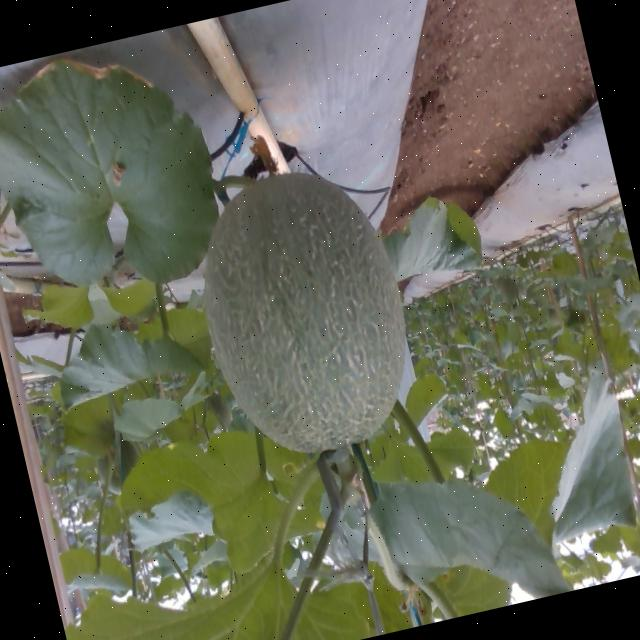melon: (202, 171, 402, 451)
